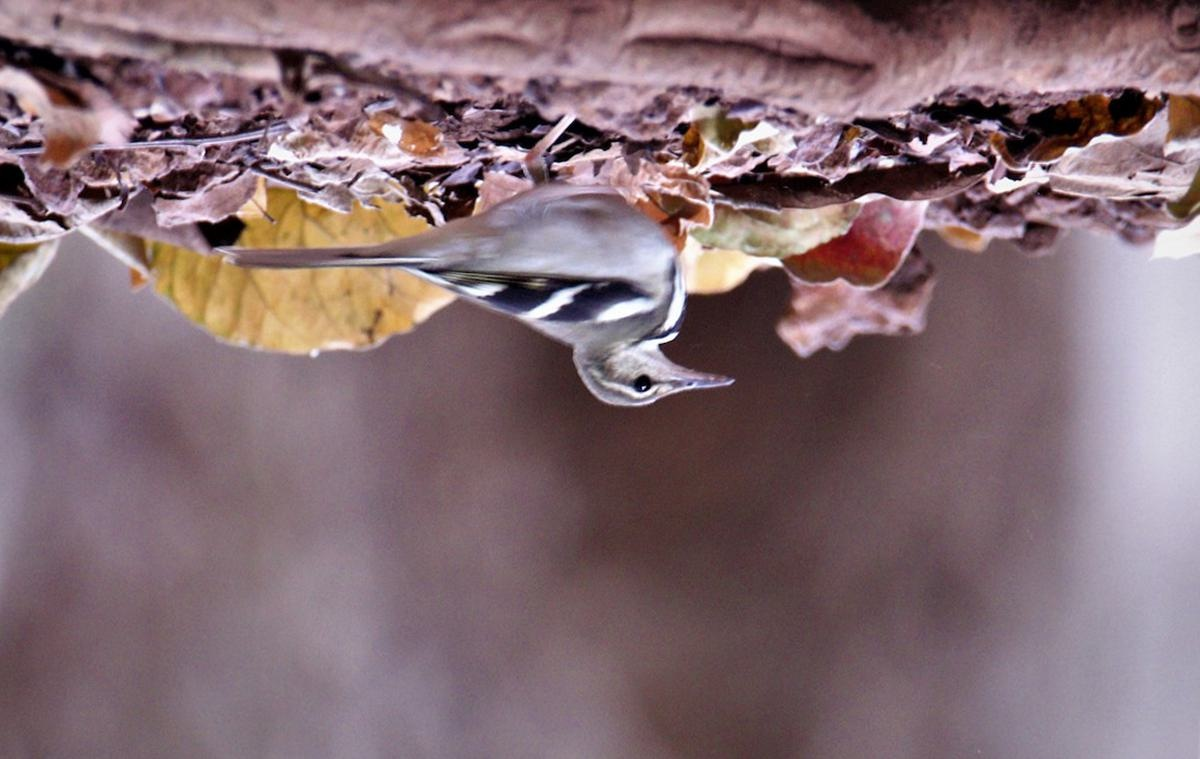wagtail: (206, 142, 746, 423)
